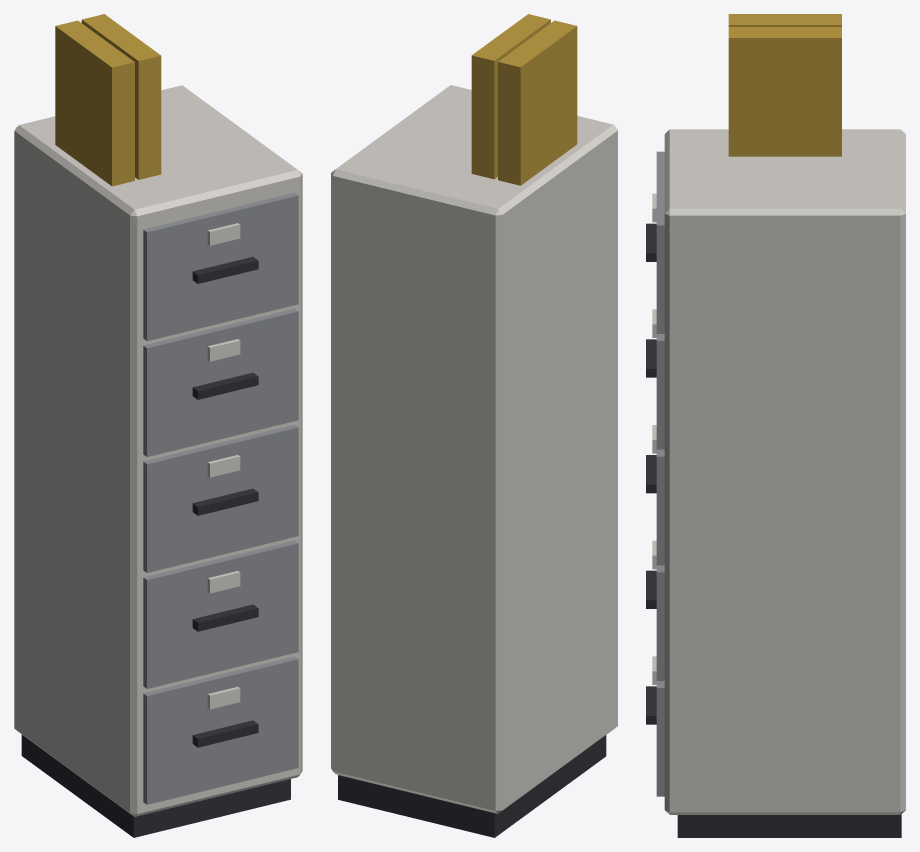
The model's file is filing-cabinet-04.glb.
3 views of the same model, side by side, from view 1: azimuth 30°, elevation 25°; view 2: azimuth 150°, elevation 25°; view 3: azimuth 270°, elevation 25° (orthographic).
Visible parts, largest first — view 1: filing_cabinet_04; view 2: filing_cabinet_04; view 3: filing_cabinet_04.
Part boxes in pixels (x1,y1,x2,y2): filing_cabinet_04: [14, 14, 302, 837]; filing_cabinet_04: [331, 14, 617, 837]; filing_cabinet_04: [646, 14, 905, 837].
Bounding box in the file's own units: 0.4551 × 1.89 × 0.5955.
